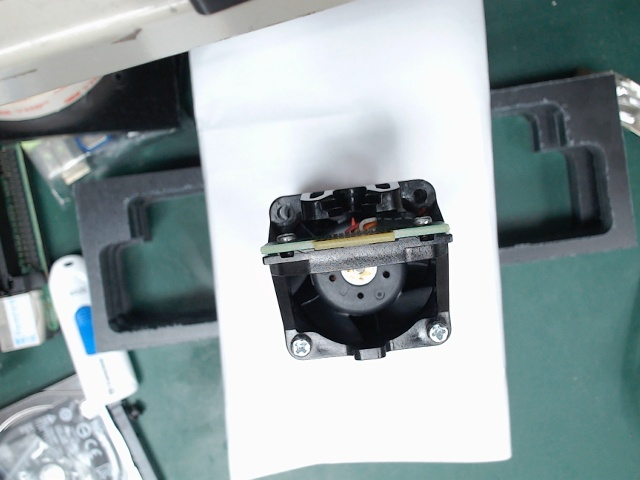Phase1_screw_loose: (403, 303, 468, 361)
Phase1_screw_missing: (256, 189, 308, 230)
